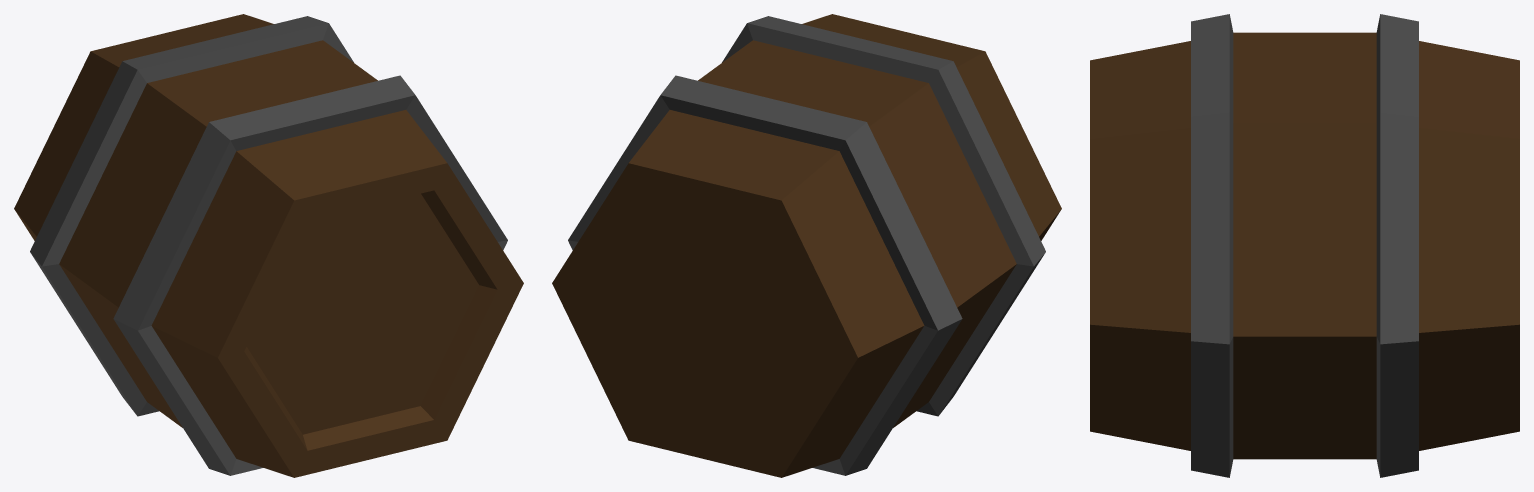
Rendered from Barrel.obj.
3 views of the same model, side by side, from view 1: azimuth 30°, elevation 25°; view 2: azimuth 150°, elevation 25°; view 3: azimuth 270°, elevation 25° (orthographic). The views are drawn at different scales.
Visible parts, largest first — view 1: Barrel, BarrelRing; view 2: Barrel, BarrelRing; view 3: Barrel, BarrelRing.
Boxes of the visible parts, x1,y1,x2,y2 form: Barrel: (14,14,523,477); BarrelRing: (30,16,507,475); Barrel: (552,14,1061,477); BarrelRing: (568,16,1045,475); Barrel: (1090,32,1519,459); BarrelRing: (1191,14,1418,477).
Size of the model in its own units: 1.08 by 0.9387 by 1.
